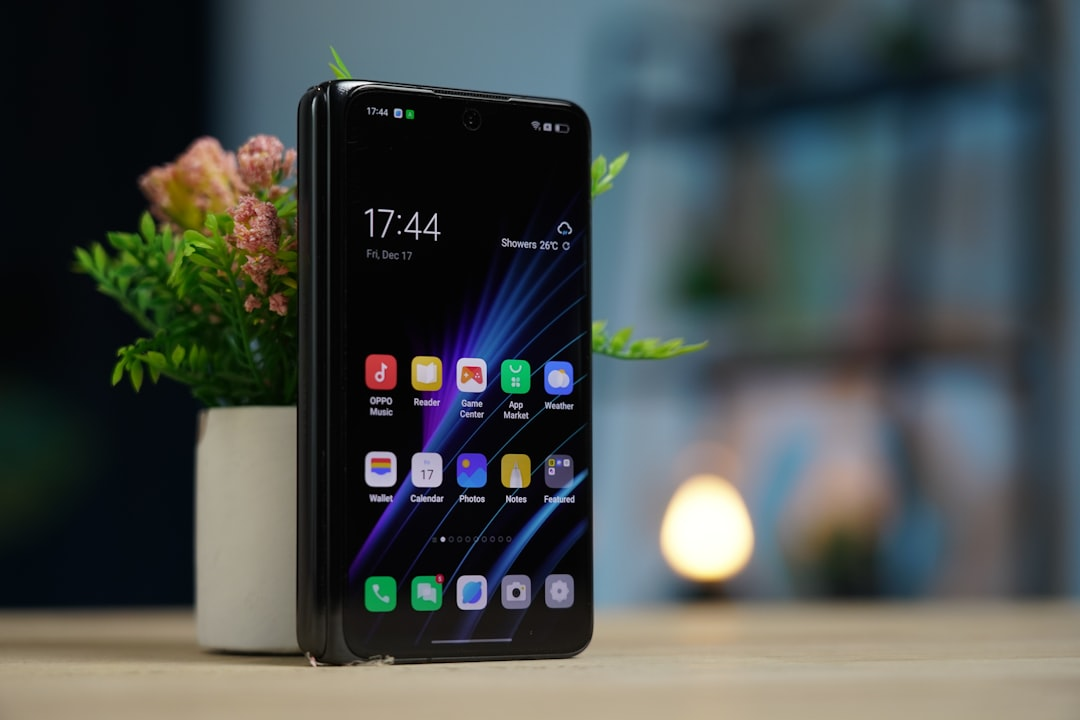phone: (291, 80, 596, 667)
